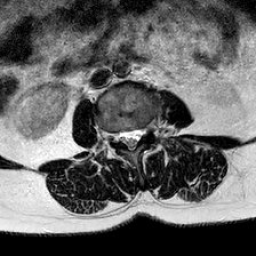CCS_normal: (126, 118, 134, 157)
LFS_normal: (142, 110, 152, 141)
LLS_normal: (134, 118, 142, 150)
RFS_normal: (109, 121, 118, 148)
RLS_normal: (118, 121, 126, 150)
